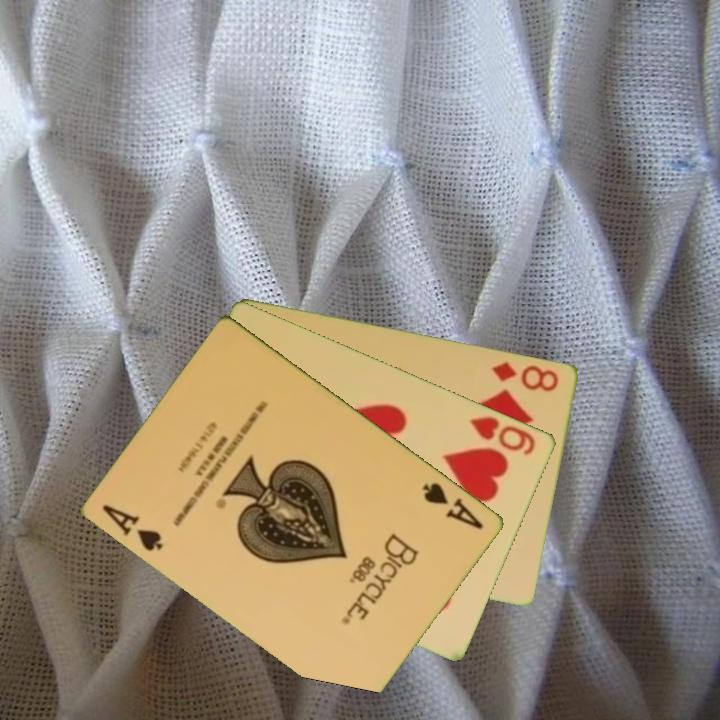6h: (466, 412, 539, 458)
8d: (488, 358, 562, 394)
As: (419, 478, 487, 532), (99, 501, 167, 554)
